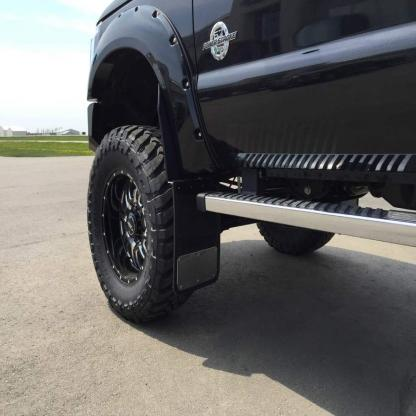Car: (90, 1, 416, 325)
